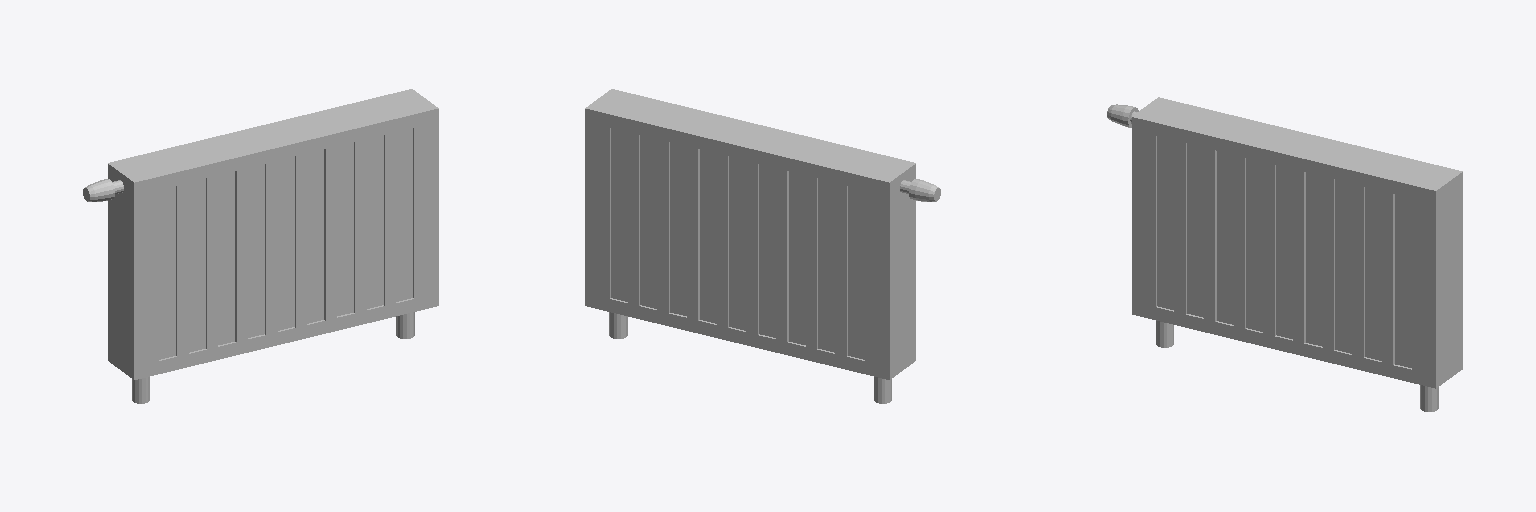
Rendered from heizung.obj.
3 renders of one model, left to right at view 1: azimuth 30°, elevation 25°; view 2: azimuth 150°, elevation 25°; view 3: azimuth 330°, elevation 25°, orthographic.
Parts seen in each view (by area): view 1: Cube; view 2: Cube; view 3: Cube.
Part boxes in pixels (x1,y1,x2,y2): Cube: (83, 89, 438, 403); Cube: (585, 89, 940, 403); Cube: (1107, 97, 1462, 411).
Size of the model in its own units: 1.8 by 1.17 by 0.2462.